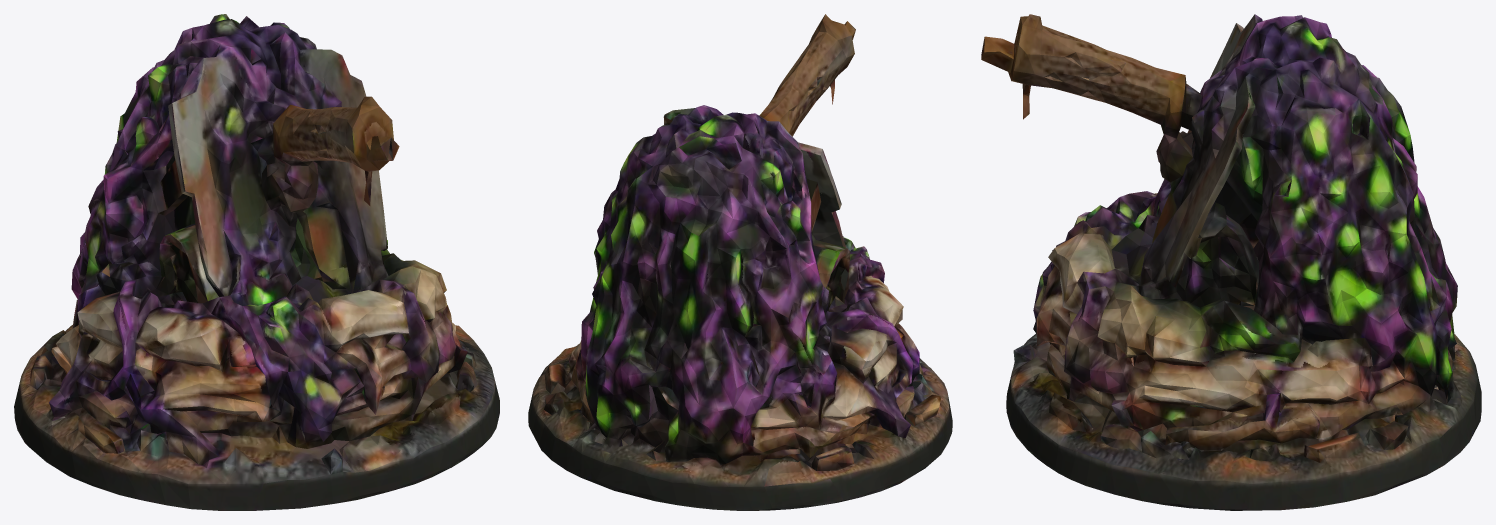
The model's file is creep-mound.glb.
3 views of the same model, side by side, from view 1: azimuth 30°, elevation 25°; view 2: azimuth 150°, elevation 25°; view 3: azimuth 270°, elevation 25° (orthographic). The views are drawn at different scales.
Parts seen in each view (by area): view 1: tmpl4f1chgj.ply; view 2: tmpl4f1chgj.ply; view 3: tmpl4f1chgj.ply.
Boxes of the visible parts, box(x1,y1,x2,y2) form: tmpl4f1chgj.ply: box(14, 14, 499, 510); tmpl4f1chgj.ply: box(528, 14, 952, 510); tmpl4f1chgj.ply: box(981, 14, 1481, 510).
Size of the model in its own units: 3.4 by 3 by 3.4.
Materials: 1 (1 with a texture image).
